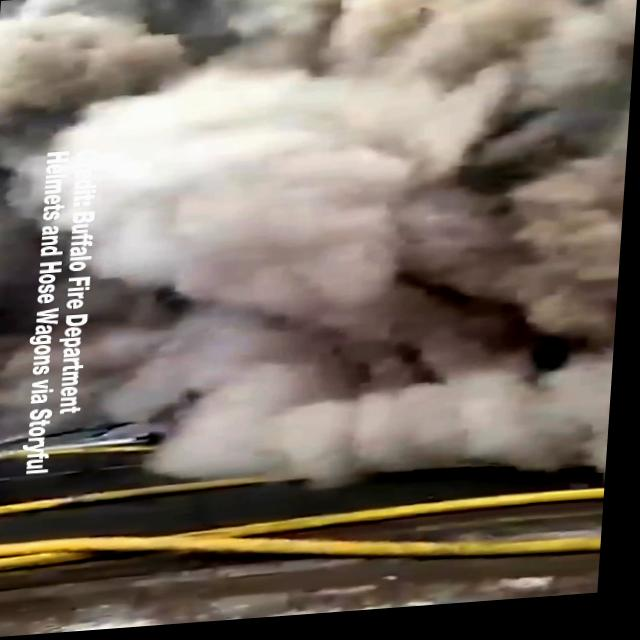Smoke: (93, 0, 640, 504)
